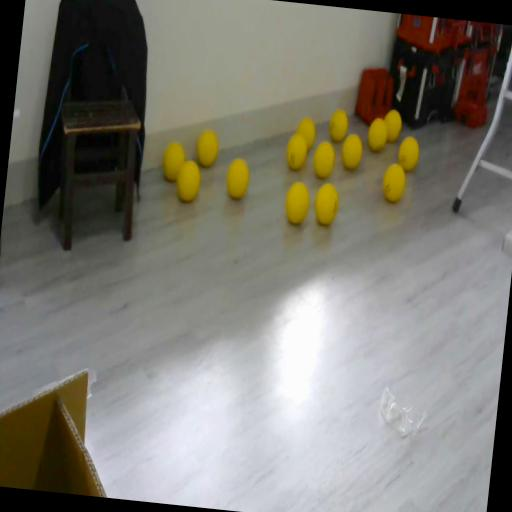FUEL: (174, 158, 203, 204), (283, 180, 312, 226), (312, 180, 340, 226), (224, 156, 252, 200), (380, 161, 408, 203), (194, 127, 220, 169), (161, 141, 186, 182), (312, 140, 336, 180), (340, 132, 364, 170), (396, 136, 421, 172), (326, 108, 350, 144), (295, 116, 317, 152), (382, 107, 404, 143), (367, 116, 389, 152)
